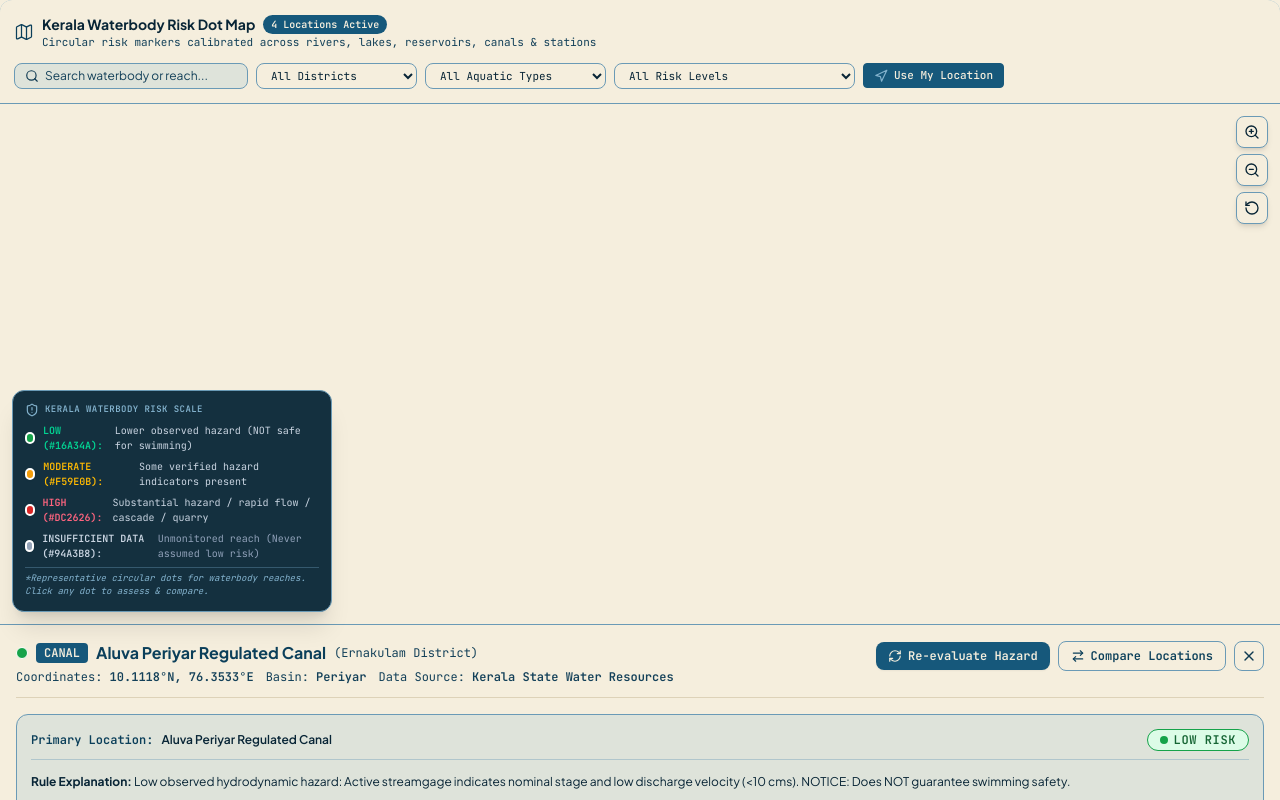
OperationsMap — Clickable Waterbody Risk Dots Test Suite › 2. Interactive Marker Clicking & Selection Lifecycle (Task 1 & Task 3) › dismissing the detail panel with the close button hides it cleanly
The width and height of the screenshot is (1280, 800).
Click the button titled "Close Assessment Drawer".
click(1249, 656)  # box [1234, 640, 1264, 670]
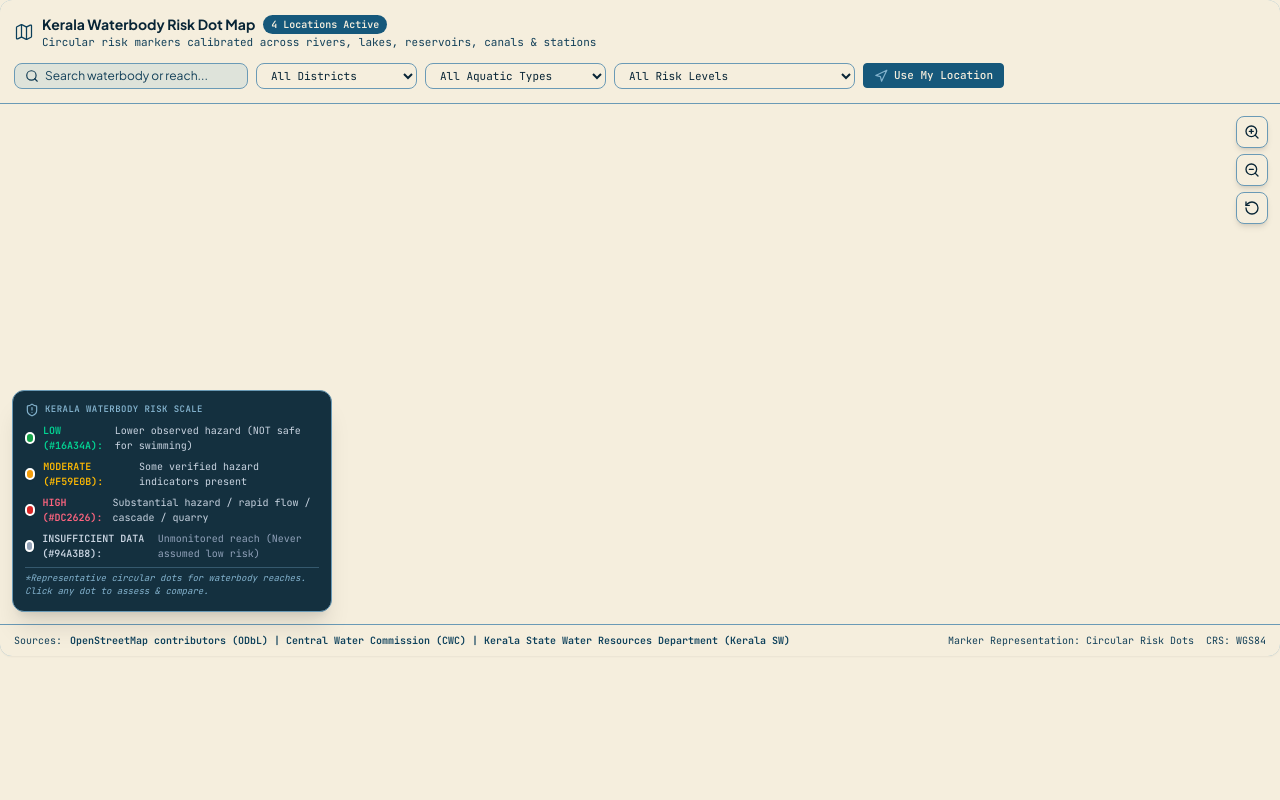
Expected: the text "Primary Location:" is gone
